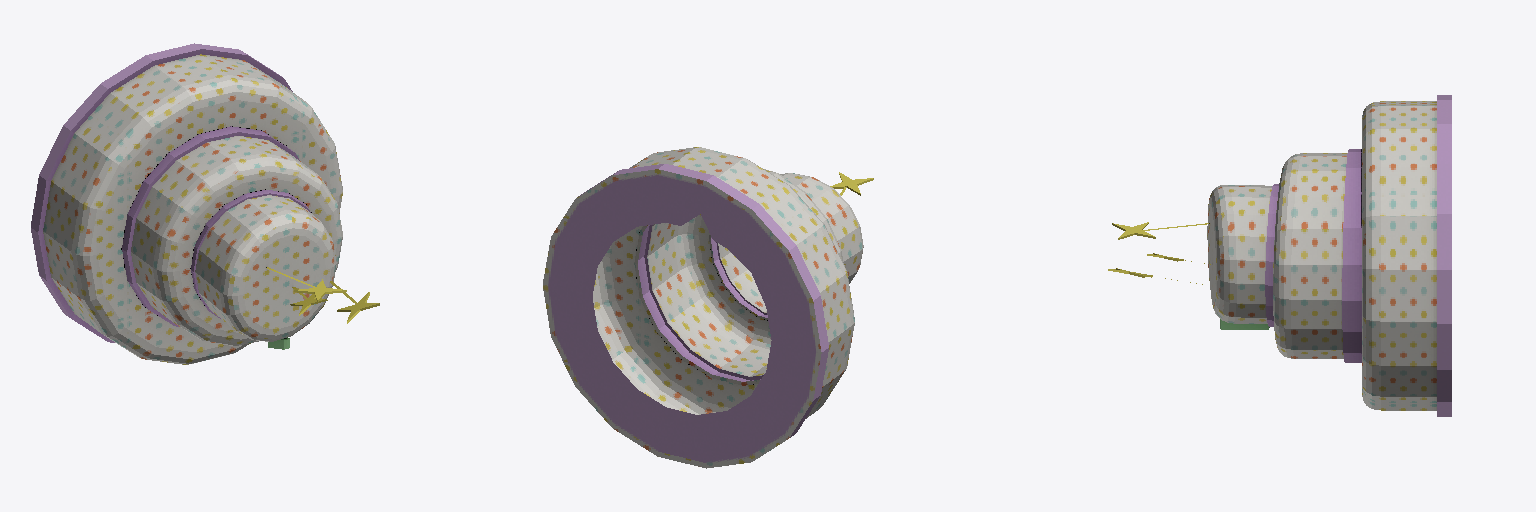
3 views of the same model, side by side, from view 1: azimuth 30°, elevation 25°; view 2: azimuth 150°, elevation 25°; view 3: azimuth 270°, elevation 25° (orthographic).
Visible parts, largest first — view 1: torta; view 2: torta; view 3: torta.
Part boxes in pixels (x1,y1,x2,y2): torta: (31, 43, 379, 364); torta: (543, 147, 873, 468); torta: (1108, 95, 1451, 416).
Size of the model in its own units: 63.35 by 62.39 by 67.59.
Materials: 1 (1 with a texture image).